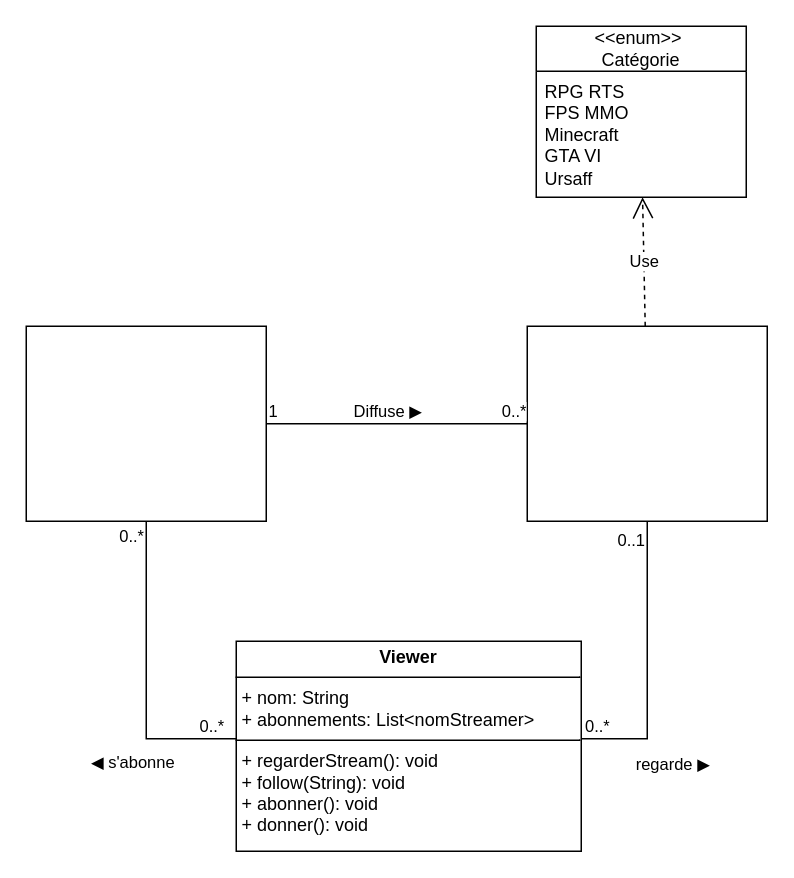
The diagram is 794 pixels wide and 878 high, and some of its shapes have lost their labels. Here are the shapes that lost their labels. From the top down, the centre of each, then its label:
pixel 145 423: Streamer + nomStreamer: String + nbFollowers: int + StreamAllNight(): void
pixel 646 423: fluxStream + nom: String + nbViewers: int + catégorie: Catégorie
